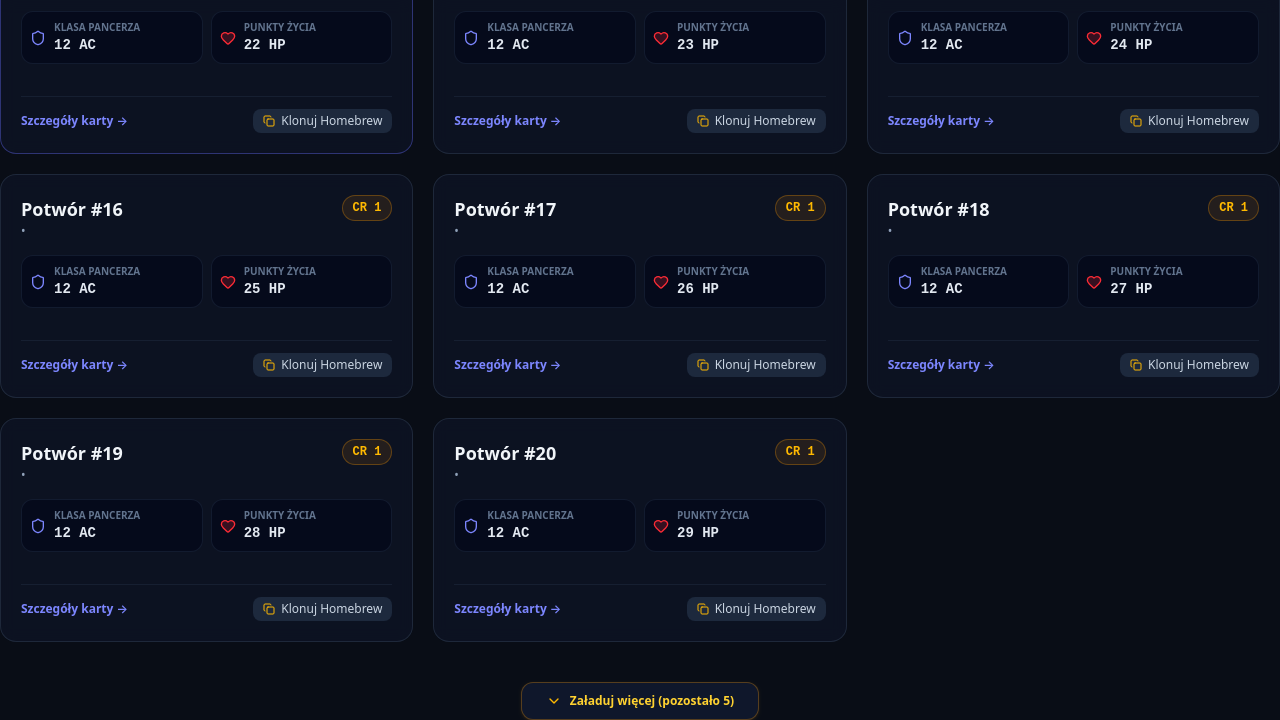
Test: Compendium (Bestiary, Spells, Items) › renders pagination and loads more records when clicking Załaduj więcej
(page scrolled)
expect the heading "Potwór #20" is shown: met, box [454,439,556,467]
expect the text "Potwór #21" is not shown: met
Click load more
Click the button with test id "load-more-monsters-btn".
click(640, 701)  # box [521,682,759,719]
(page scrolled)
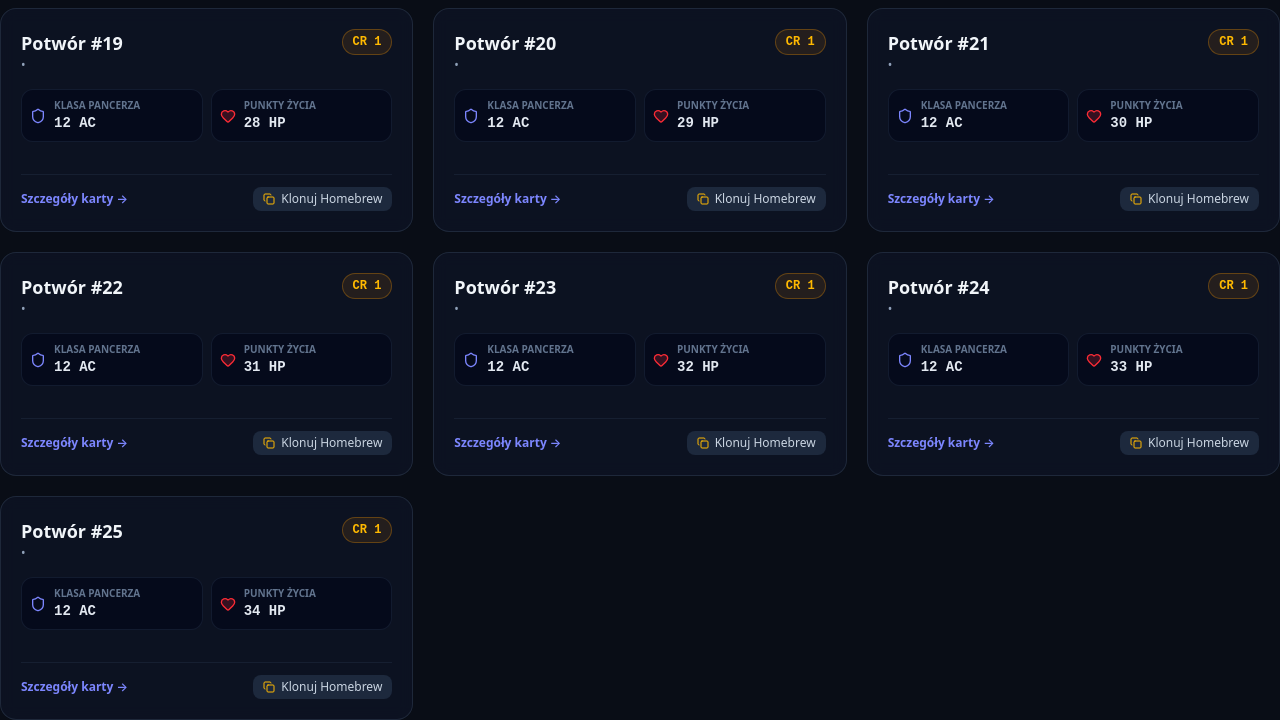
expect the heading "Potwór #25" is shown: met, box [21,517,123,545]
expect the button with test id "load-more-monsters-btn" is gone: met
